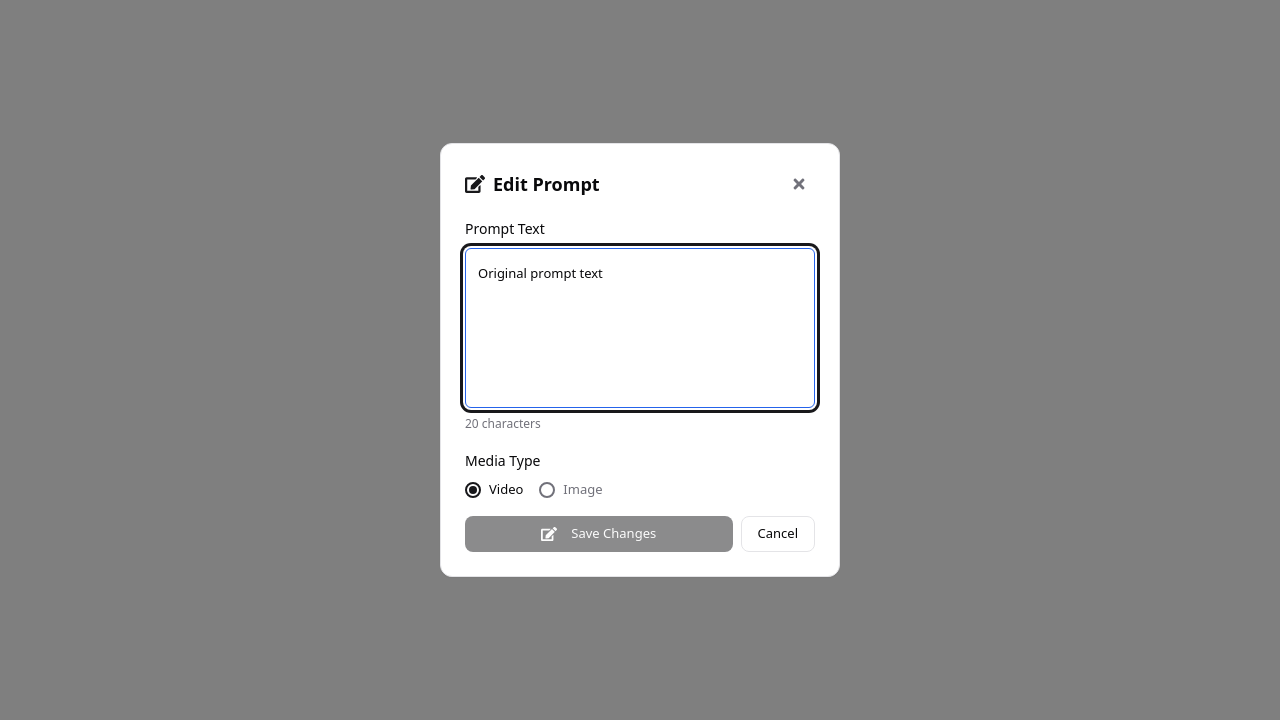
Test: EditPromptDialog › should handle save errors
Replace the text in the text box labelled "Prompt Text" with "Updated text" at (640, 328), box left=465, top=248, right=815, bottom=408
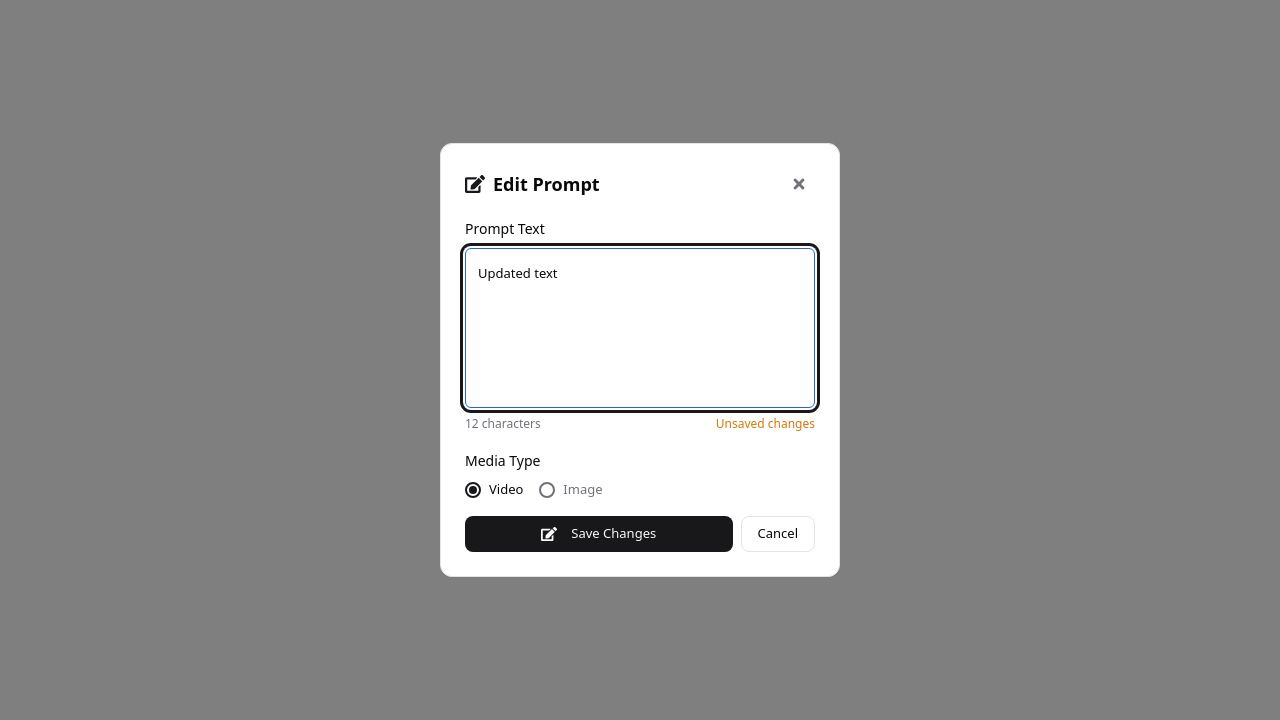
Click the button "Save Changes" at (599, 534), box left=465, top=516, right=732, bottom=552
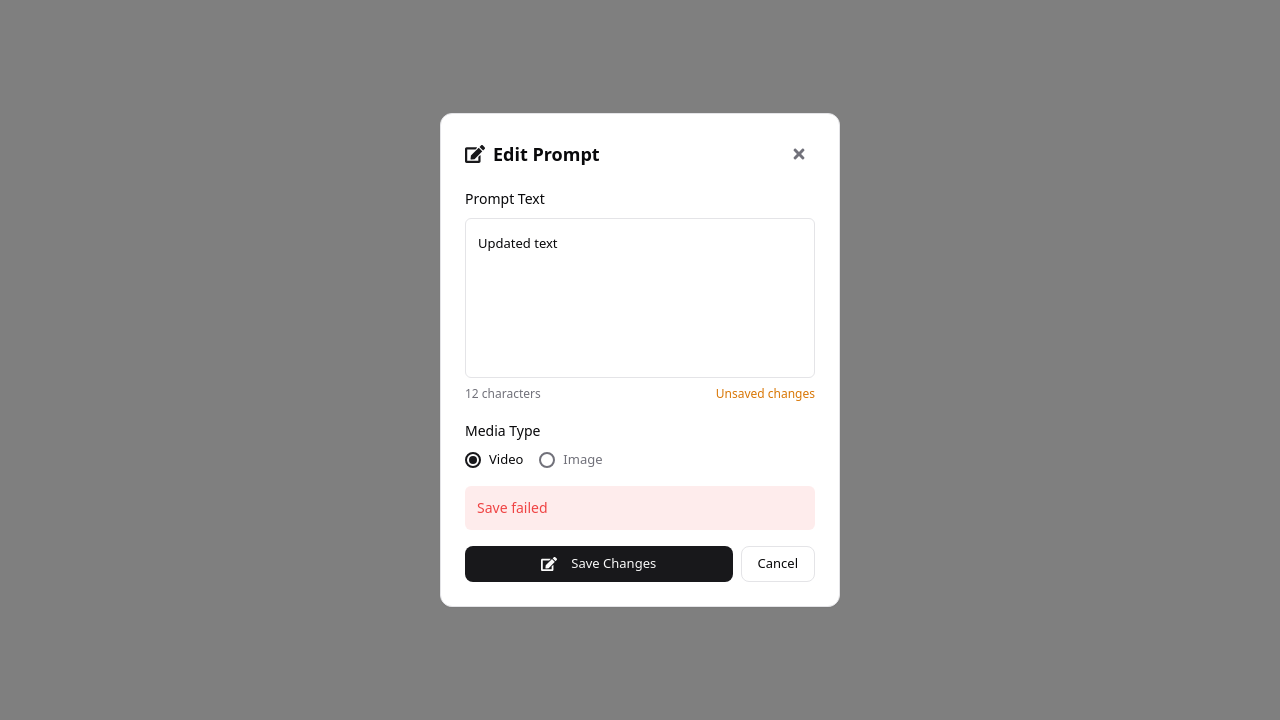
expect the text "Save failed" is shown: met, box left=465, top=486, right=815, bottom=530
